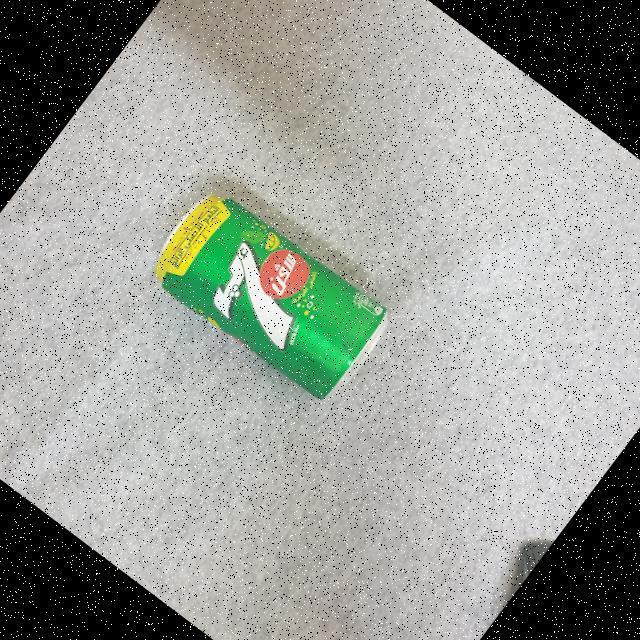can: (130, 164, 412, 423)
